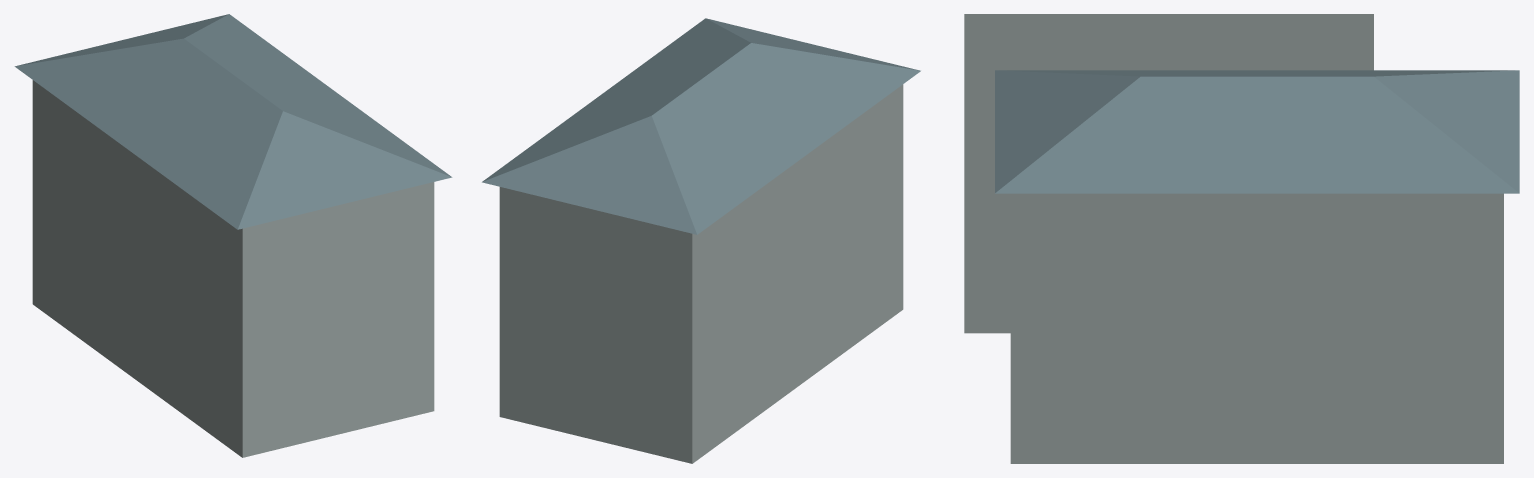
File: home-blue.glb
3 views of the same model, side by side, from view 1: azimuth 30°, elevation 25°; view 2: azimuth 150°, elevation 25°; view 3: azimuth 270°, elevation 25° (orthographic). The views are drawn at different scales.
Parts seen in each view (by area): view 1: home-blue; view 2: home-blue; view 3: home-blue.
Boxes of the visible parts, x1=… form: home-blue: x1=14, y1=14, x2=452, y2=457; home-blue: x1=482, y1=18, x2=920, y2=463; home-blue: x1=964, y1=14, x2=1519, y2=463.
Size of the model in its own units: 6.57 by 8.23 by 12.44.
